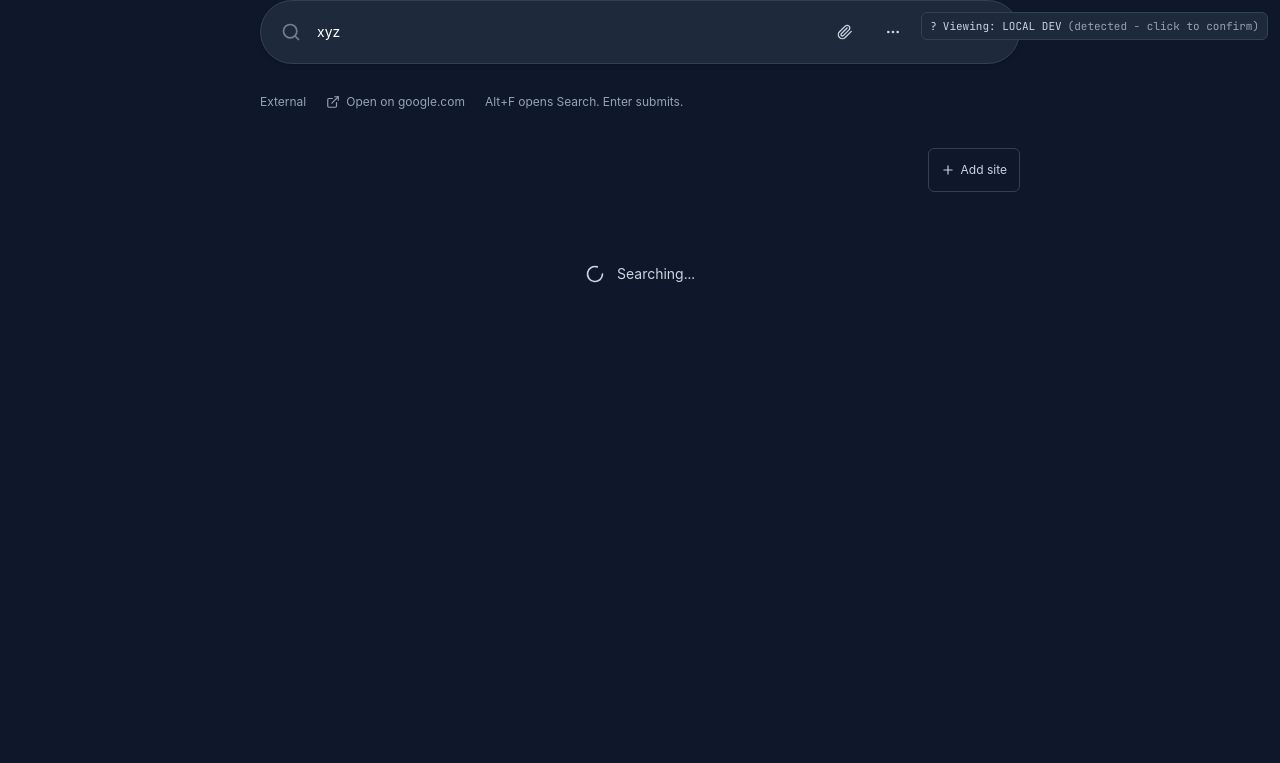
Test: F79 single-spinner loading › only reveals per-source progress after explicit opt-in
Click the button with test id "bar-icon-drawer" at (893, 32), box [871,10,915,54]
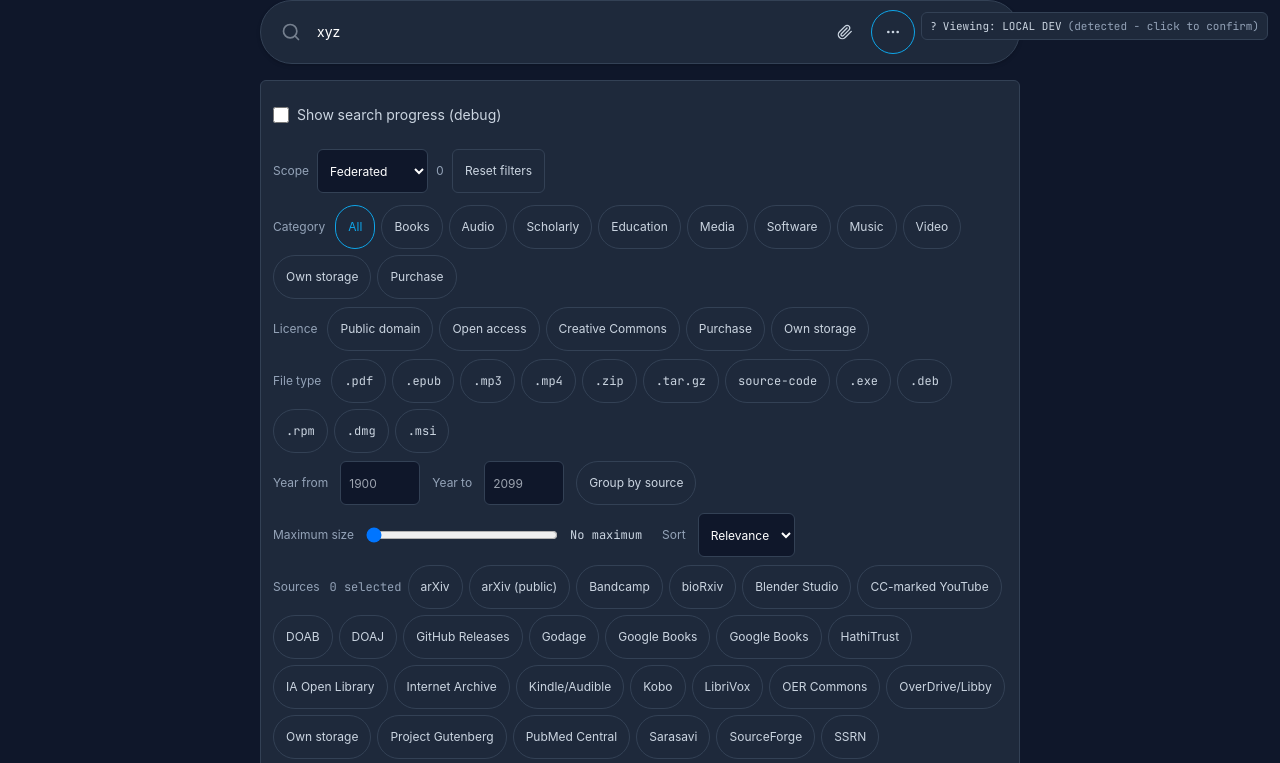
Click the checkbox with test id "show-progress-toggle" at (281, 115), box [273,107,289,123]
(page scrolled)
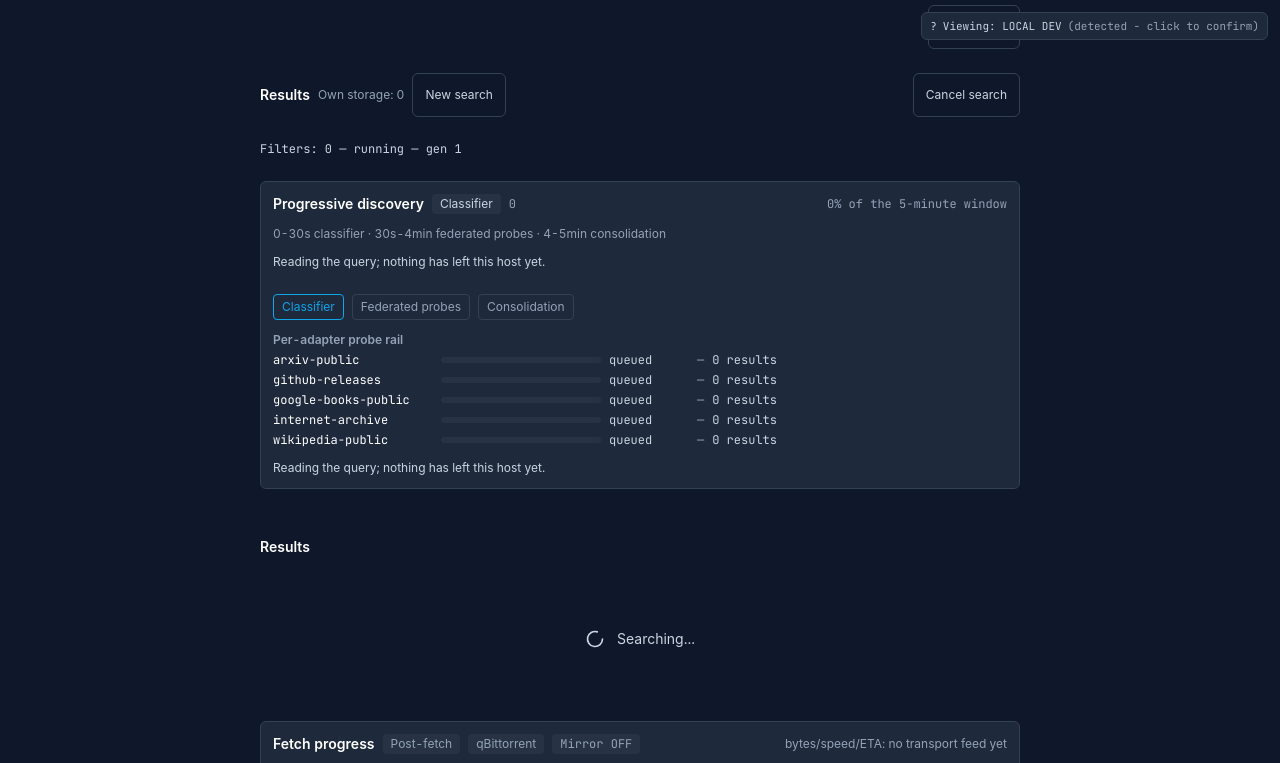
Expected: the number of icons with test id "search-spinner" is 1, [585,629,605,649]
Result: the list with test id "lab-adapter-rail" is shown at [273,352,777,448]
